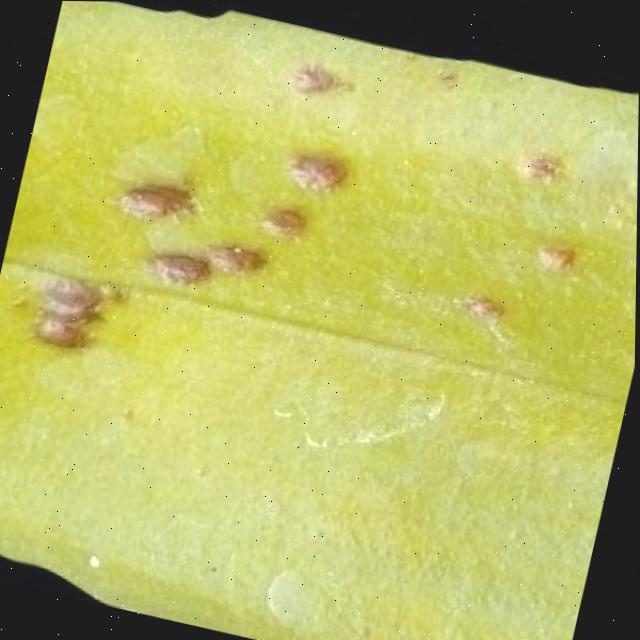mite: (23, 10, 380, 406), (456, 131, 607, 347), (37, 271, 109, 325), (208, 235, 275, 280), (31, 309, 97, 354), (290, 57, 341, 98), (80, 544, 111, 574), (86, 549, 107, 569)
spots: (0, 1, 639, 640)
